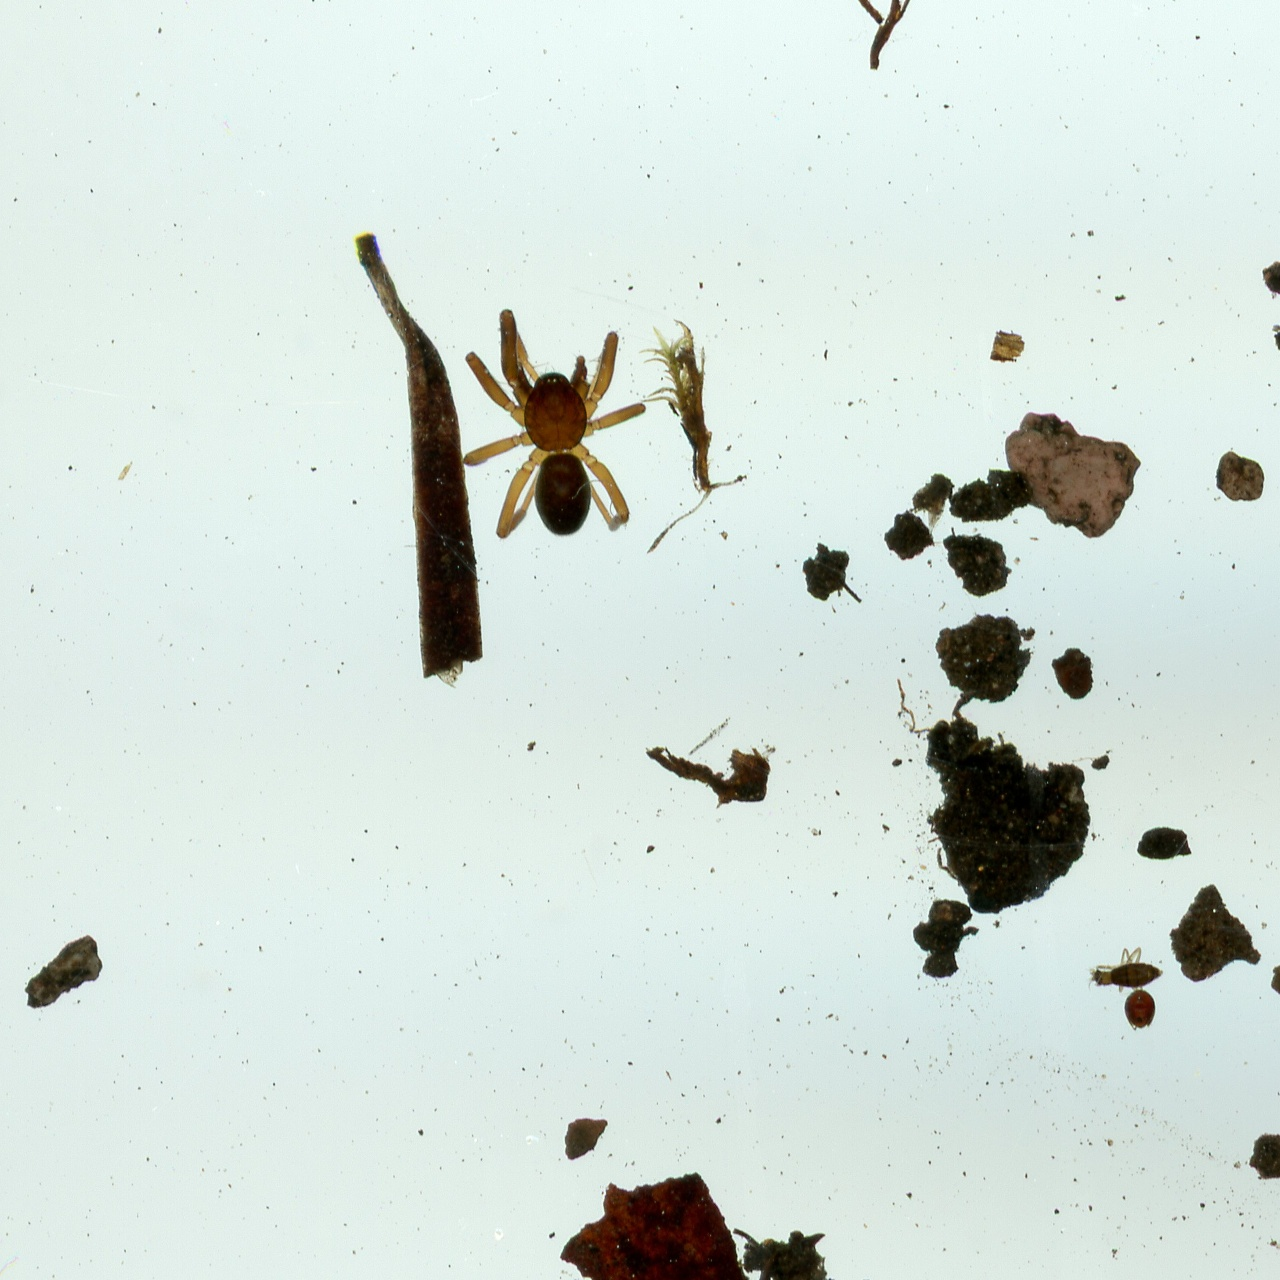arthropod: (459, 304, 648, 545), (1084, 945, 1167, 993), (1121, 989, 1158, 1035)
